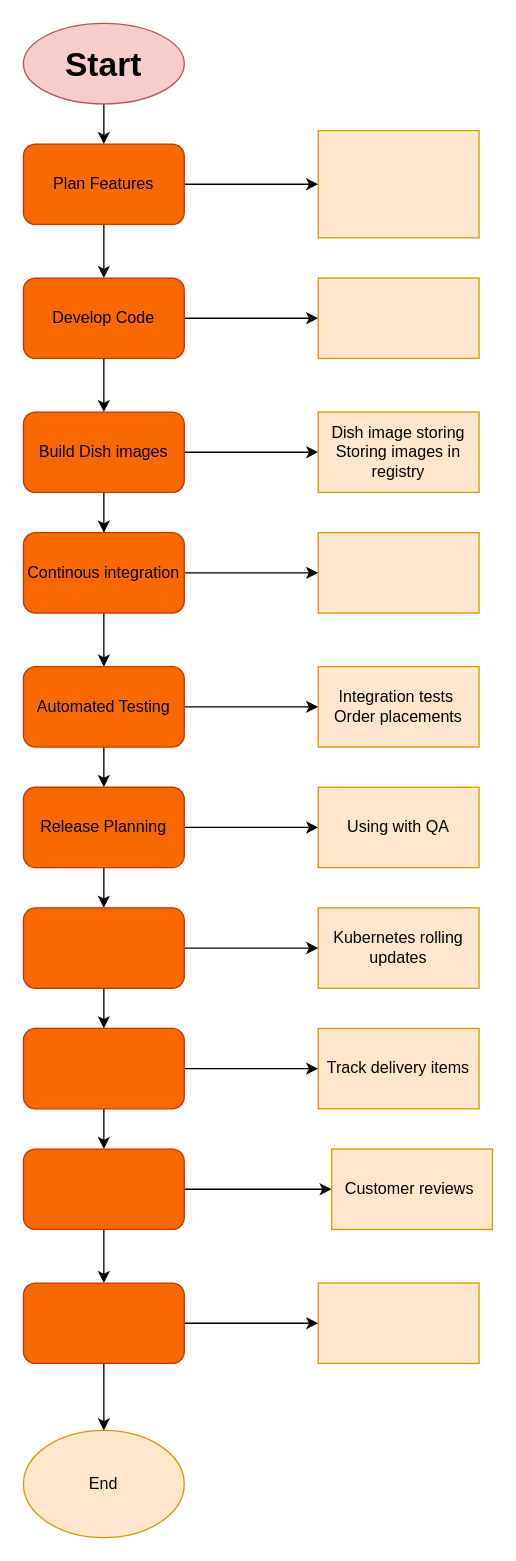
This 516x1561 diagram has some shape labels left out. The centre of each missing label's shape, as x and y in pixels:
"Collect Feedback" goes at [103,1188].
"Deployment" goes at [103,947].
"Maintainence" goes at [103,1322].
"Operate and monitor" goes at [103,1068].
"Restaurant on boarding order tracking Menu updates" goes at [398,183].
"Run unit tests Security Scanning" goes at [398,572].
"User services order services payment services" goes at [398,317].
